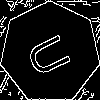U: (25, 27, 81, 80)
